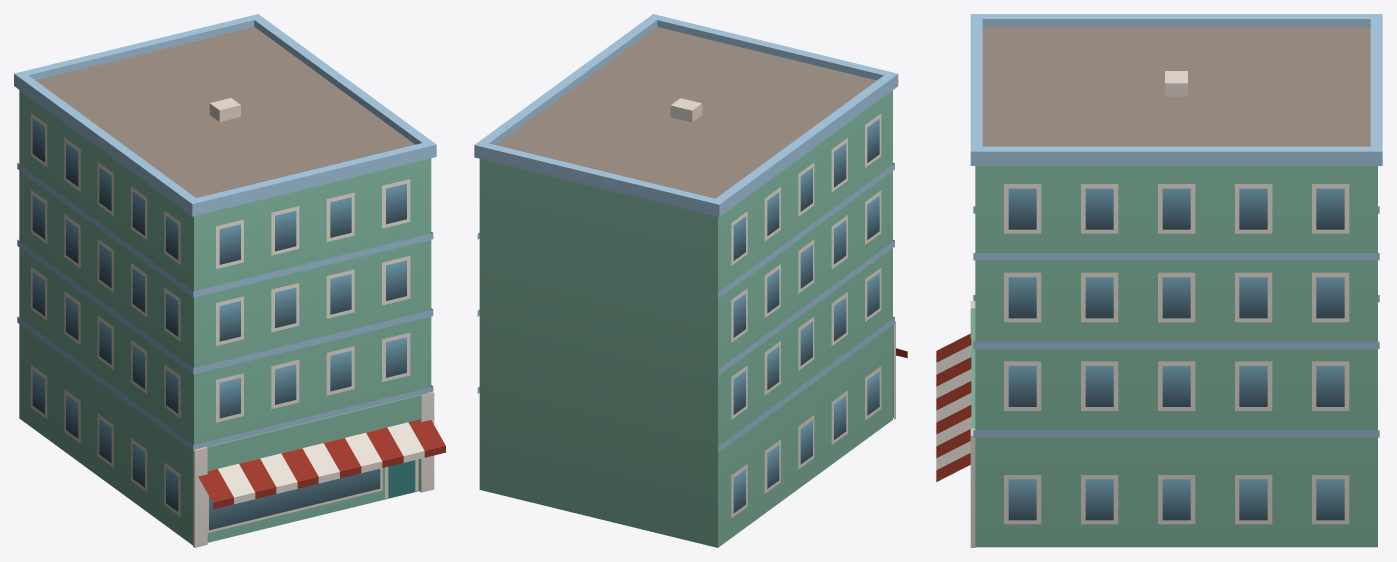
Rendered from boylston_s14_far.glb.
3 renders of one model, left to right at view 1: azimuth 30°, elevation 25°; view 2: azimuth 150°, elevation 25°; view 3: azimuth 270°, elevation 25°, orthographic. The views are drawn at different scales.
Parts seen in each view (by area): view 1: boylston_s14_far; view 2: boylston_s14_far; view 3: boylston_s14_far.
Part boxes in pixels (x1=…): boylston_s14_far: x1=14, y1=14, x2=445, y2=547; boylston_s14_far: x1=474, y1=14, x2=907, y2=547; boylston_s14_far: x1=936, y1=14, x2=1382, y2=547.
Bounding box in the file's own units: 11.32 × 15.47 × 15.51.
Materials: 1 (1 with a texture image).
